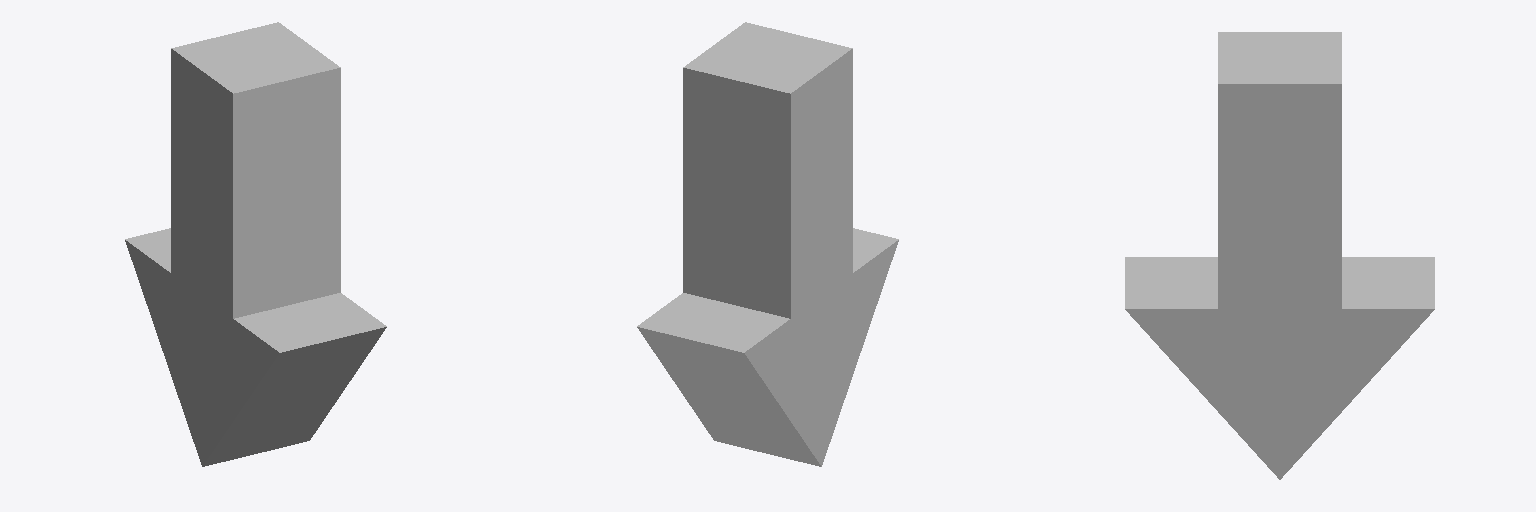
The model's file is arrow_down.obj.
The picture shows the model from 3 angles: view 1: azimuth 30°, elevation 25°; view 2: azimuth 150°, elevation 25°; view 3: azimuth 270°, elevation 25°; orthographic projection.
Visible parts, largest first — view 1: mergedBlocks; view 2: mergedBlocks; view 3: mergedBlocks.
Boxes of the visible parts, x1=… form: mergedBlocks: x1=125, y1=22, x2=386, y2=466; mergedBlocks: x1=637, y1=22, x2=898, y2=466; mergedBlocks: x1=1125, y1=32, x2=1434, y2=479.
Size of the model in its own units: 0.4 by 1.41 by 1.